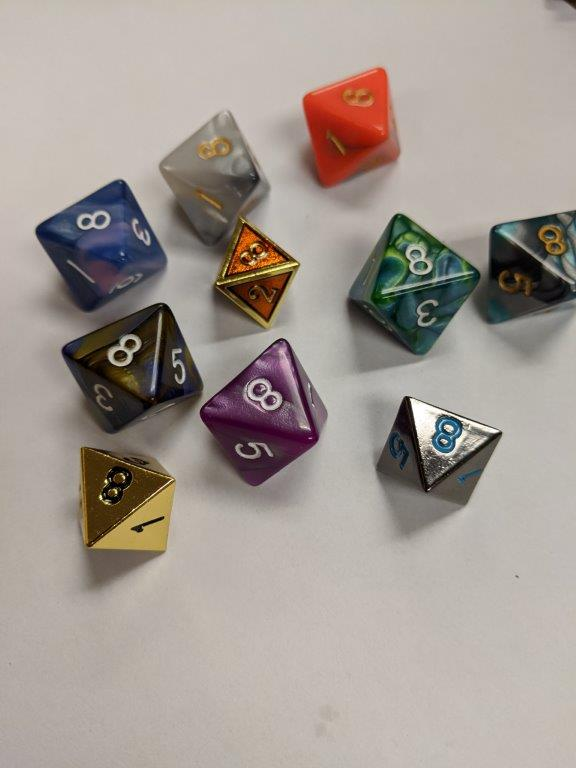d8-8: (197, 338, 329, 489), (63, 297, 202, 435), (352, 213, 479, 356), (33, 178, 167, 308), (158, 108, 268, 245), (374, 394, 504, 508), (304, 67, 402, 187), (78, 443, 177, 558), (214, 215, 302, 328), (485, 212, 576, 319)
